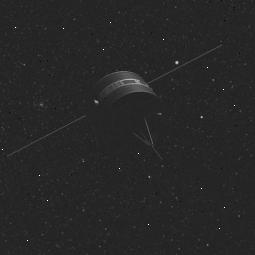double_start: (86, 61, 163, 164)
